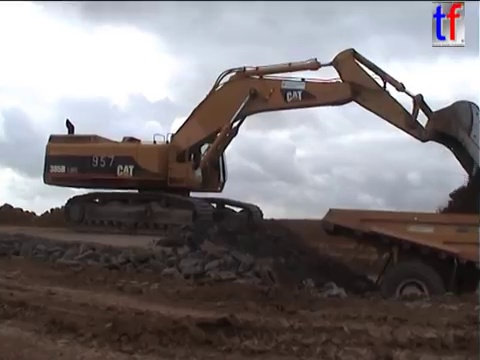excavator: (38, 44, 480, 240)
truck: (317, 205, 480, 332)
